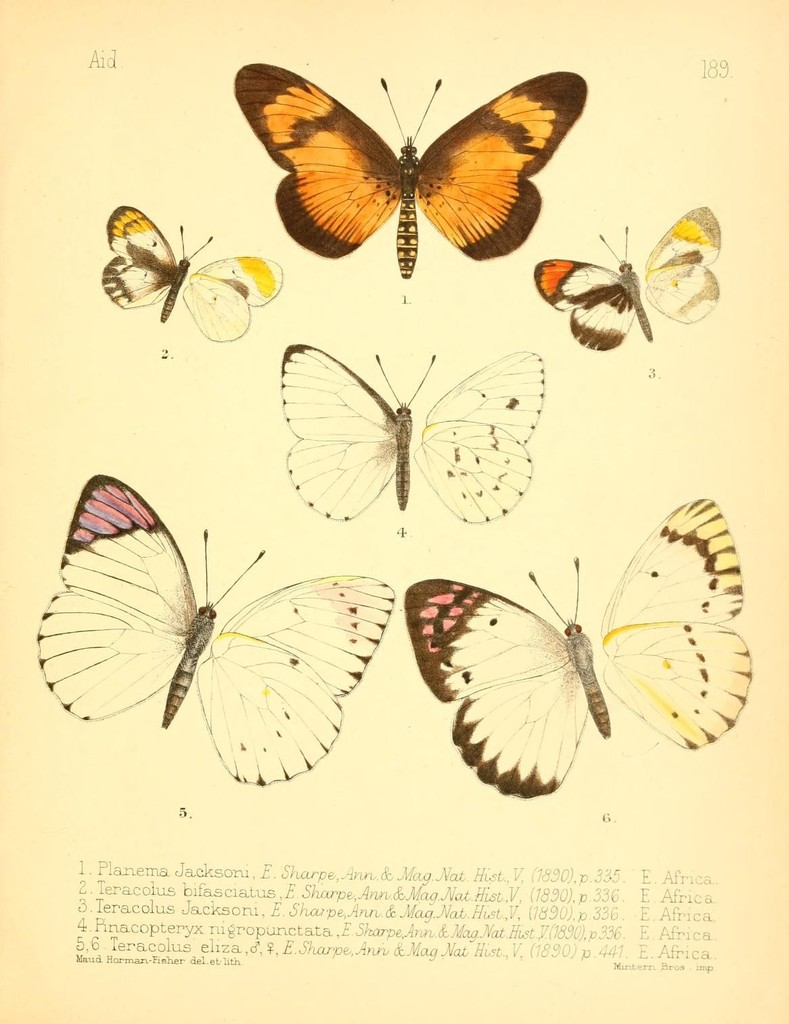Butterfly: (28, 466, 391, 816), (403, 518, 774, 792), (232, 42, 583, 270), (265, 320, 575, 534), (94, 190, 302, 367), (535, 214, 738, 356)
